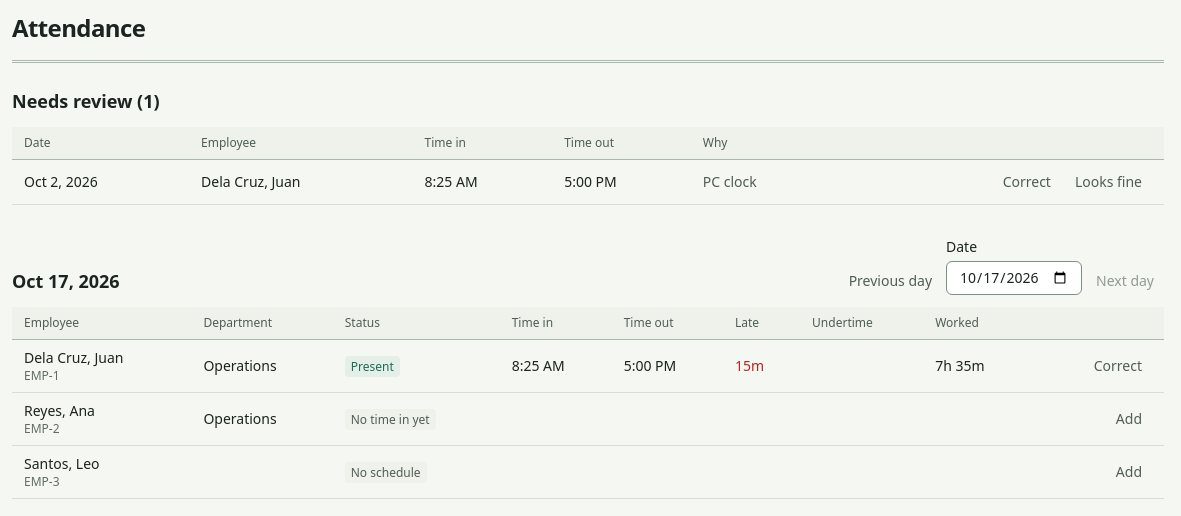
AttendancePage › lists flagged records and clears one that looks fine
The width and height of the screenshot is (1181, 516).
Expected: the heading "Needs review (1)" is shown, [12, 89, 160, 113]
Expected: the text "PC clock" is shown, [691, 160, 832, 204]
Click the button with aria-label "Mark Dela Cruz, Juan on 2026-10-02 as reviewed".
click(1108, 182)  # box [1065, 168, 1152, 196]
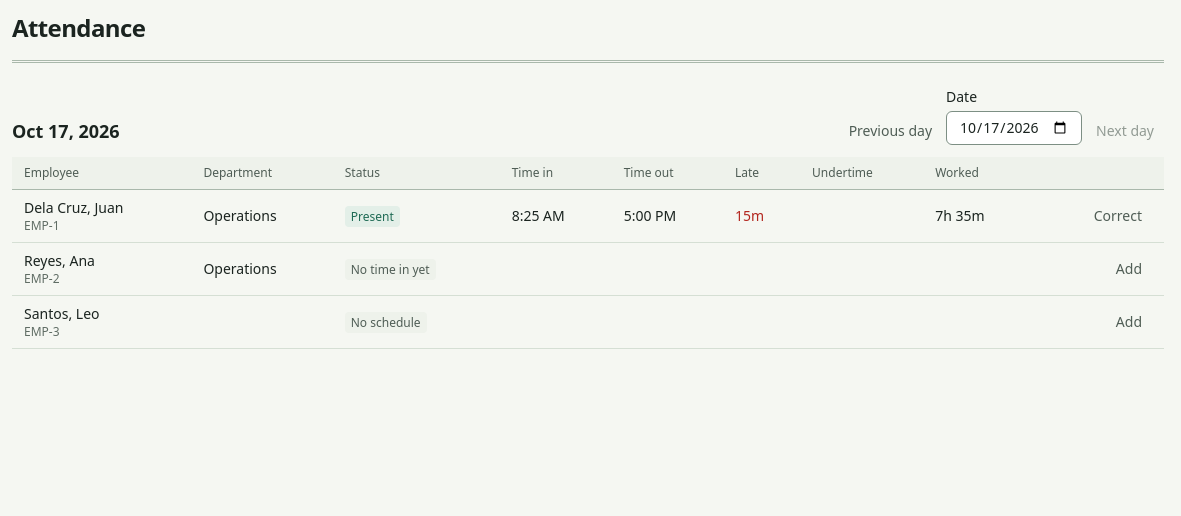
Expected: the heading "Needs review" is gone
